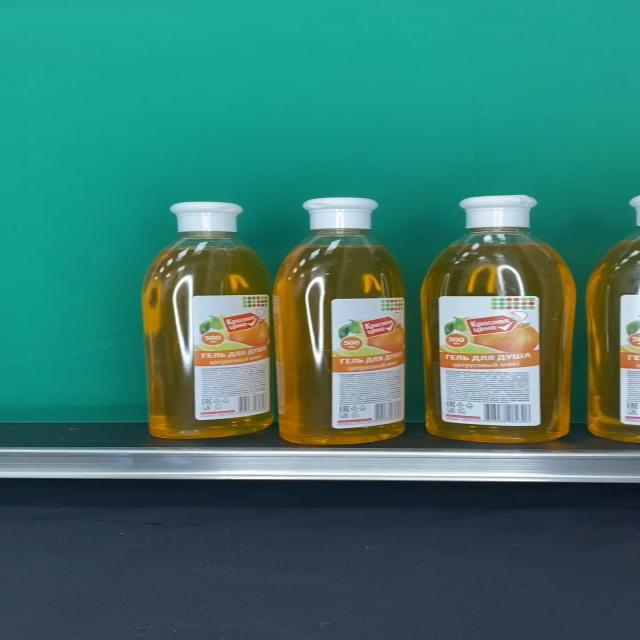Bottle: (423, 195, 576, 443), (272, 198, 407, 444), (142, 202, 274, 438)
Cap: (457, 194, 538, 228), (301, 198, 378, 230), (170, 202, 243, 233)
